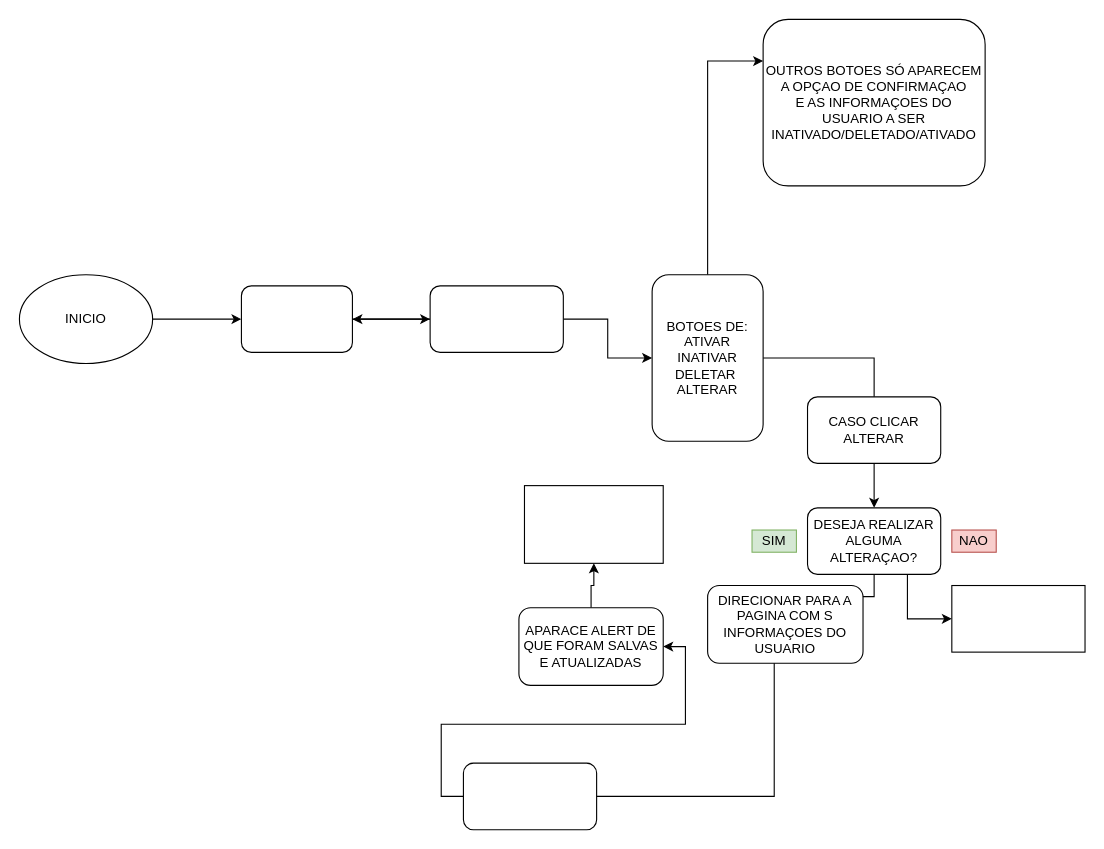
Some shapes in this 1104 by 849 pixel diagram are drawn without their labels. Each missing label, with the box of its shape:
APOS AS ALTERAÇOES CONFIRMADAS: (462, 762, 597, 830)
LISTA DE USUARIOS: (240, 285, 352, 352)
NOME DE USUARIO E TURMA: (429, 285, 563, 352)
VOLTA PARA PAGINA COM AS LISTAGEM DOS USUARIOS: (523, 485, 663, 563)
VOLTAR A PAGINA ANTERIOR: (951, 584, 1085, 652)
